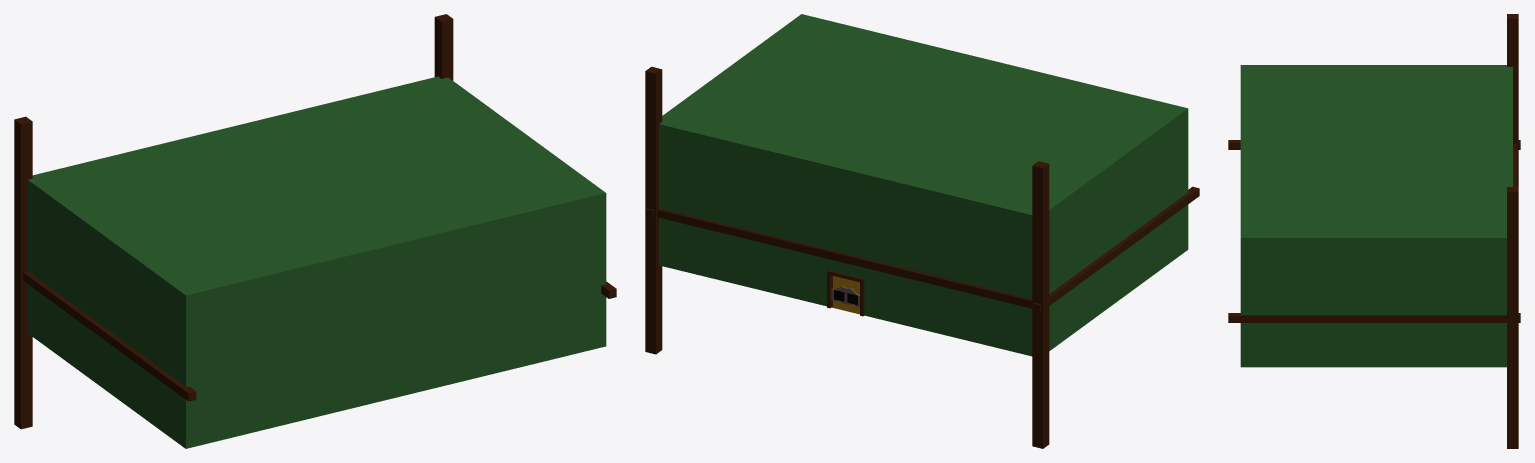
The model's file is Auction Hall.fbx.
3 views of the same model, side by side, from view 1: azimuth 30°, elevation 25°; view 2: azimuth 150°, elevation 25°; view 3: azimuth 270°, elevation 25° (orthographic). The views are drawn at different scales.
Parts seen in each view (by area): view 1: Walls, Beams; view 2: Walls, Beams, Saloon Door; view 3: Walls, Beams.
Boxes of the visible parts, <box> form: Walls: <box>28,76,606,448</box>; Beams: <box>14,14,616,429</box>; Walls: <box>659,14,1188,356</box>; Beams: <box>645,66,1199,448</box>; Saloon Door: <box>827,270,864,316</box>; Walls: <box>1240,65,1512,367</box>; Beams: <box>1228,14,1520,448</box>.
Size of the model in its own units: 3077 by 2074 by 2139.
